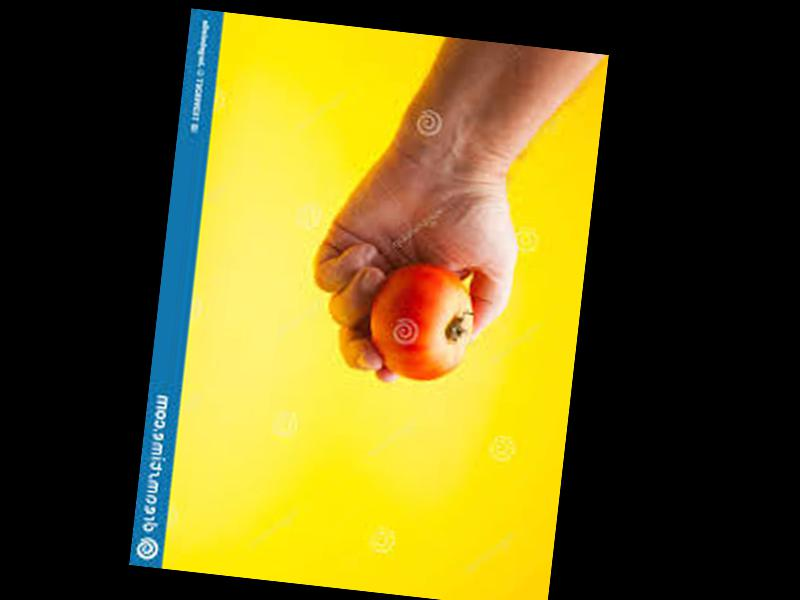Tomato: (364, 259, 478, 384)
